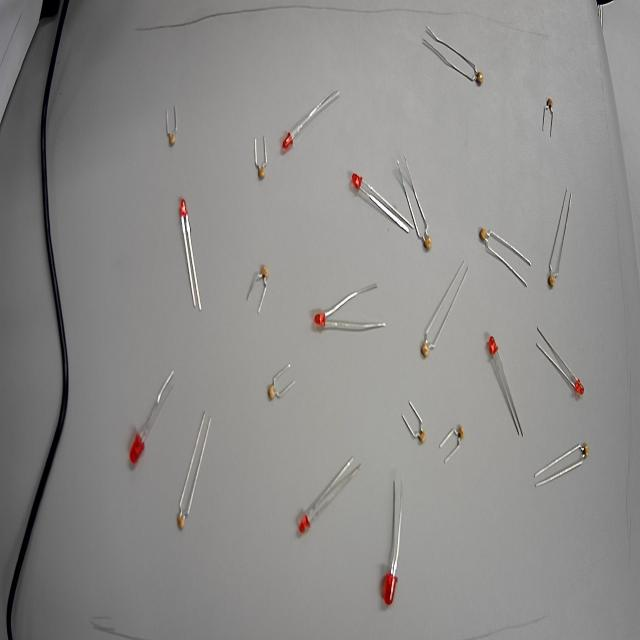LED_red: (370, 555, 409, 621), (122, 416, 153, 478), (346, 152, 370, 208), (292, 495, 318, 546), (481, 322, 506, 373), (172, 184, 196, 231), (274, 120, 299, 164), (310, 295, 332, 340), (567, 368, 591, 407)
capacitor: (252, 249, 277, 292), (408, 417, 434, 458), (168, 502, 194, 542), (575, 428, 595, 474), (261, 374, 284, 414), (415, 220, 436, 263), (415, 328, 439, 365), (542, 255, 560, 303), (250, 155, 274, 189), (451, 409, 468, 456), (474, 216, 493, 258), (540, 86, 560, 124), (162, 122, 182, 154), (472, 61, 488, 94)
